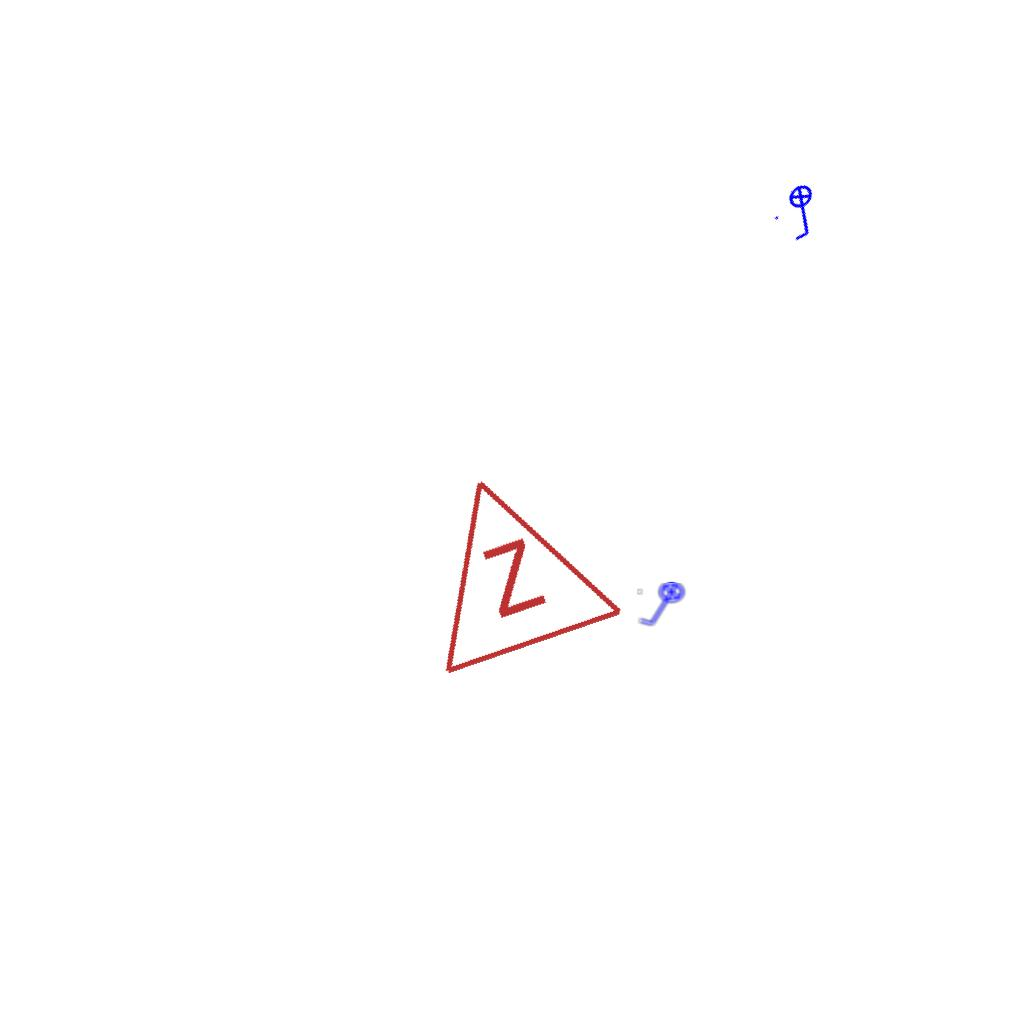Ausschalter_beleuchtet: (766, 175, 840, 249), (635, 581, 691, 629)
Zimmersignalleuchte: (379, 437, 631, 691)
